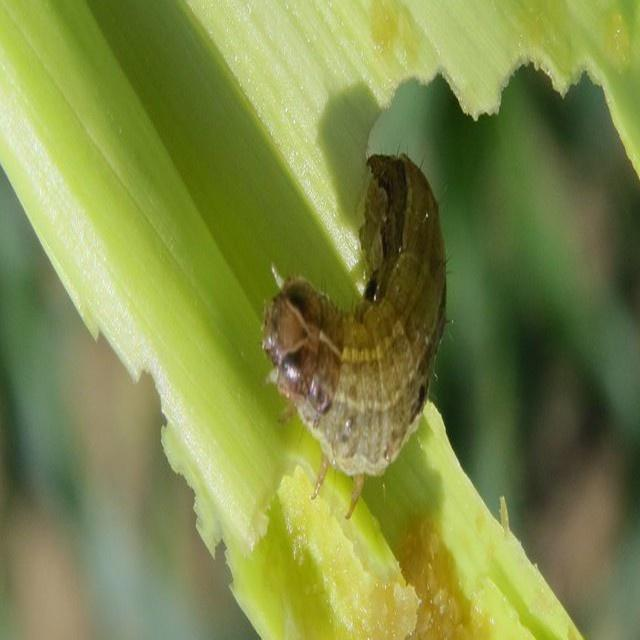gusano_cogollero: (252, 146, 452, 484)
